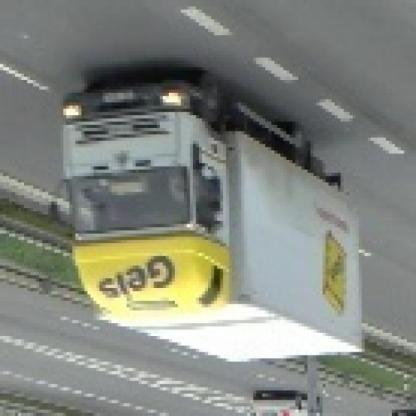truck: (52, 78, 360, 369)
